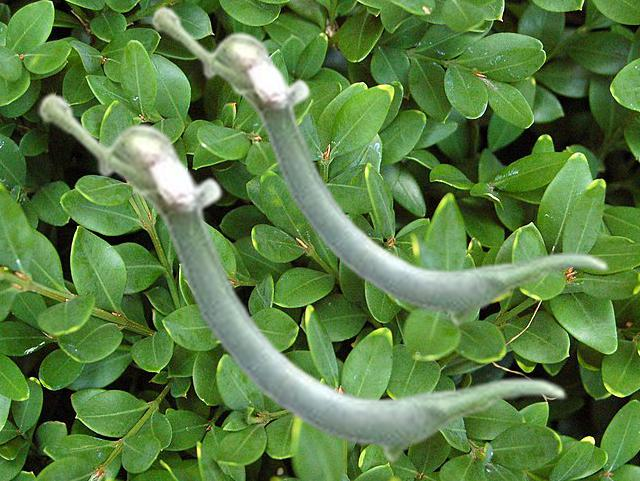french_bean: (37, 91, 566, 463), (150, 4, 608, 326)
